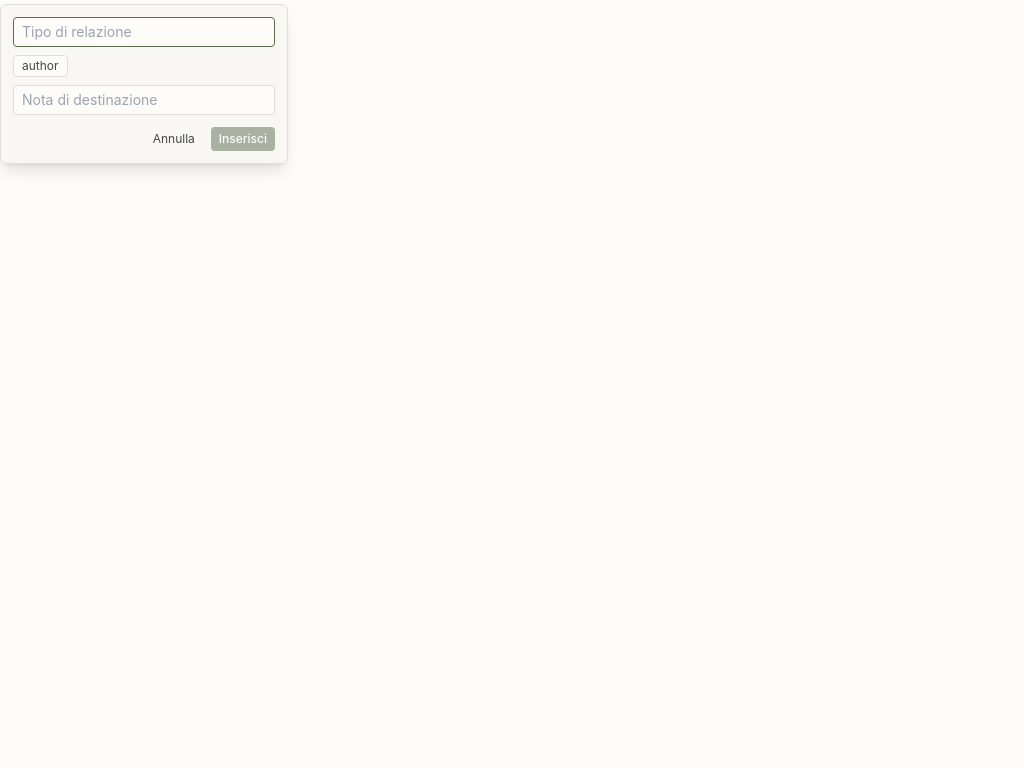
Test: <RelationPickerPopup> › clicking a suggested-kind chip populates the kind input
The width and height of the screenshot is (1024, 768).
Click the button with aria-label "Usa tipo author": (40, 66) [13,55,68,77]
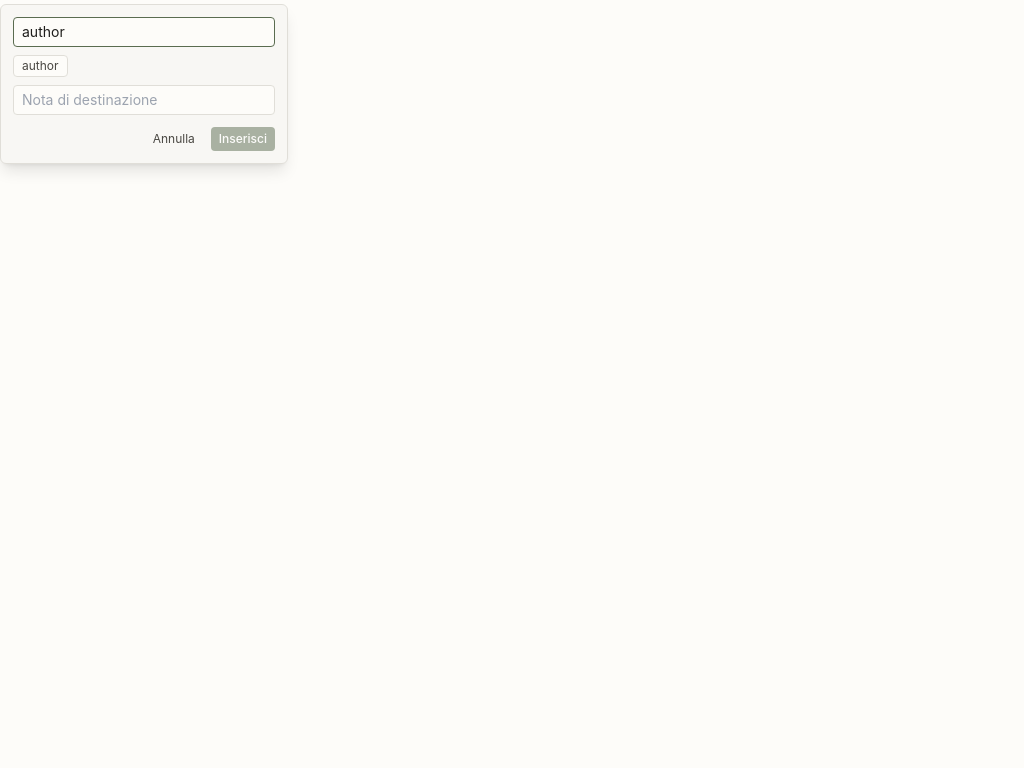
Expected: the field with placeholder "Tipo di relazione" holds "author", [13,17,275,47]
